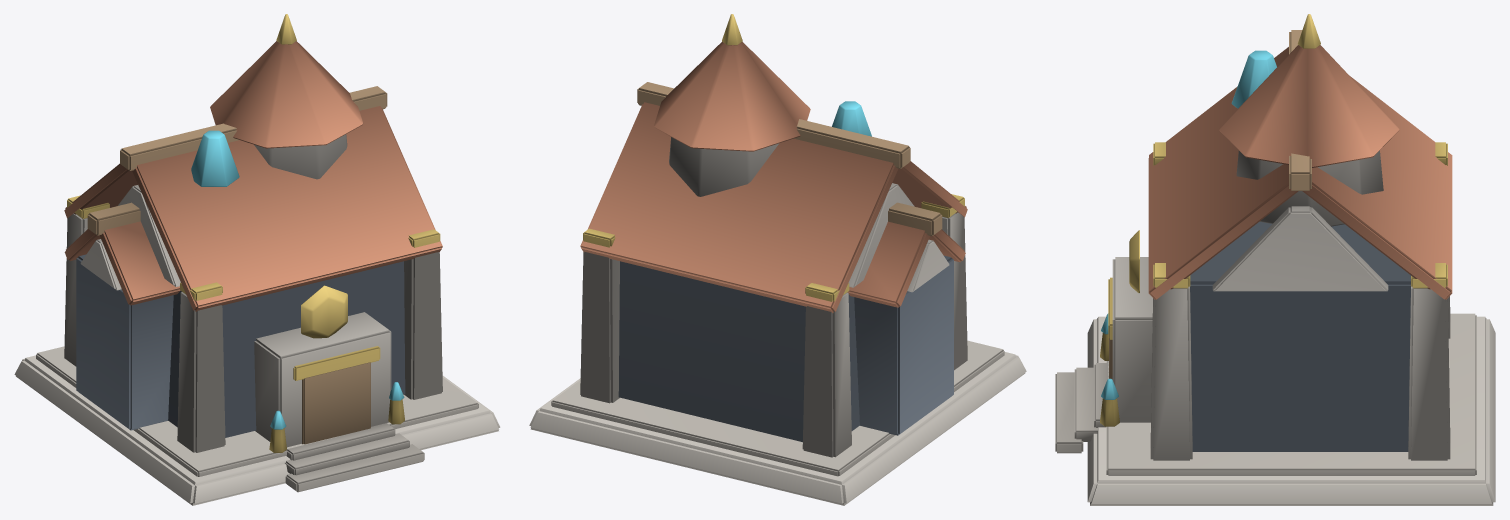
Rendered from core_archive_townhall_lv3_lod0.glb.
3 views of the same model, side by side, from view 1: azimuth 30°, elevation 25°; view 2: azimuth 150°, elevation 25°; view 3: azimuth 270°, elevation 25° (orthographic). The views are drawn at different scales.
Parts seen in each view (by area): view 1: core_archive_townhall_lv3; view 2: core_archive_townhall_lv3; view 3: core_archive_townhall_lv3.
Part boxes in pixels (x1,y1,x2,y2): core_archive_townhall_lv3: (14,14,500,505); core_archive_townhall_lv3: (529,14,1026,505); core_archive_townhall_lv3: (1055,14,1495,505).
Bounding box in the file's own units: 4.71 × 5.34 × 4.99.
